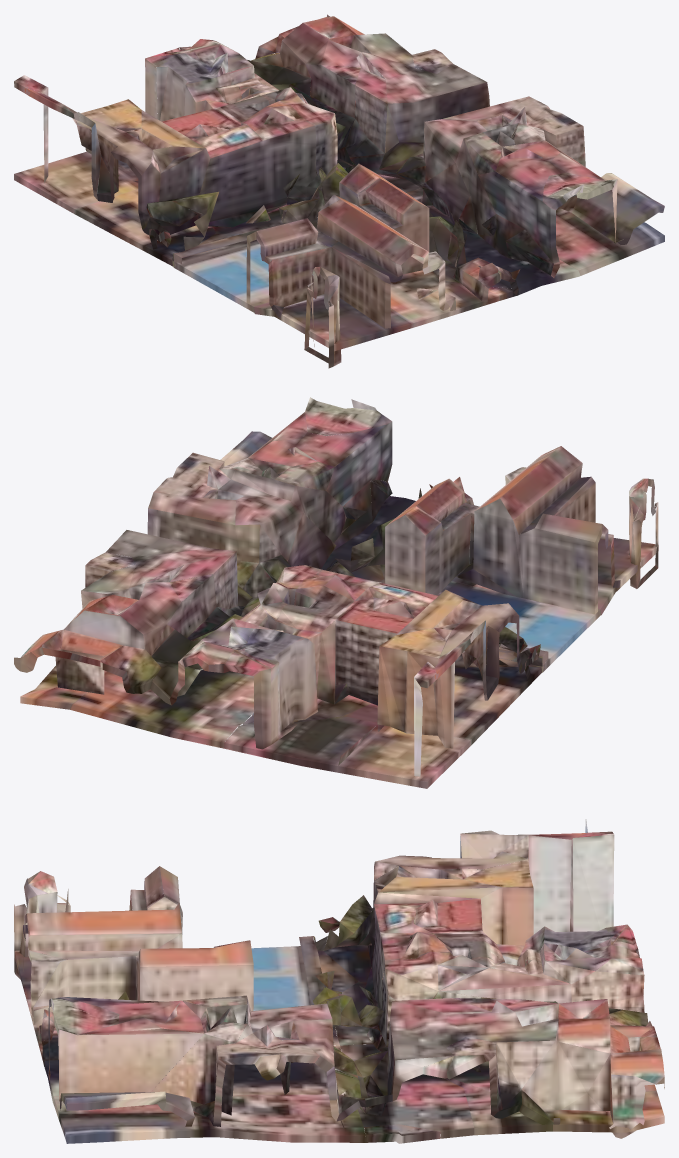
The picture shows the model from 3 angles, top to bottom: view 1: azimuth 30°, elevation 25°; view 2: azimuth 150°, elevation 25°; view 3: azimuth 270°, elevation 25°; orthographic projection. The views are drawn at different scales.
Parts seen in each view (by area): view 1: Mesh_0; view 2: Mesh_0; view 3: Mesh_0.
Boxes of the visible parts, x1,y1,x2,y2 form: Mesh_0: (14, 14, 664, 368); Mesh_0: (14, 397, 658, 788); Mesh_0: (14, 819, 664, 1143).
Bounding box in the file's own units: 133 × 36.81 × 165.
2 materials, 2 textured.
